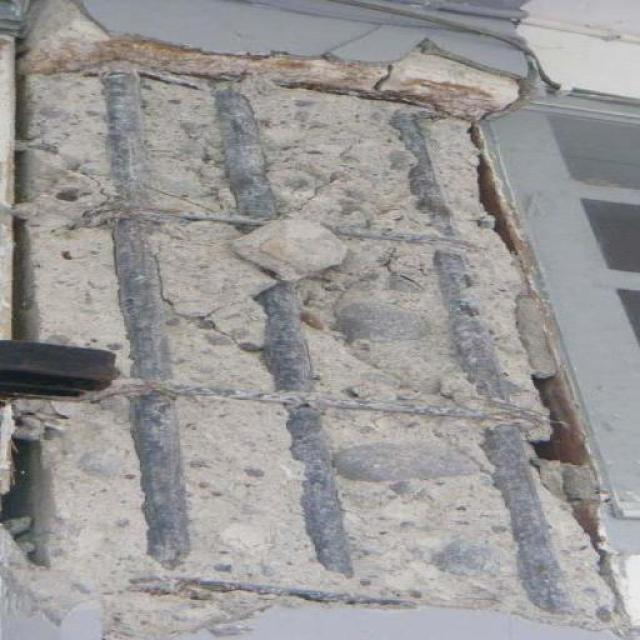D0w0: (10, 0, 620, 639)
